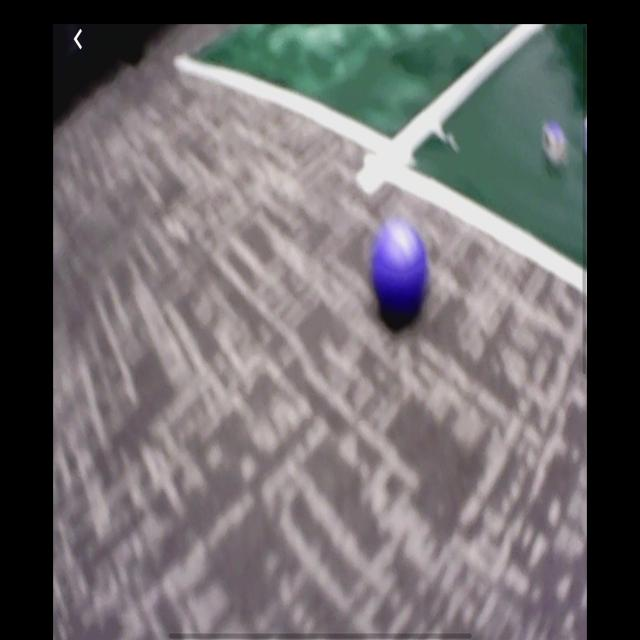ball: (373, 222, 428, 322)
